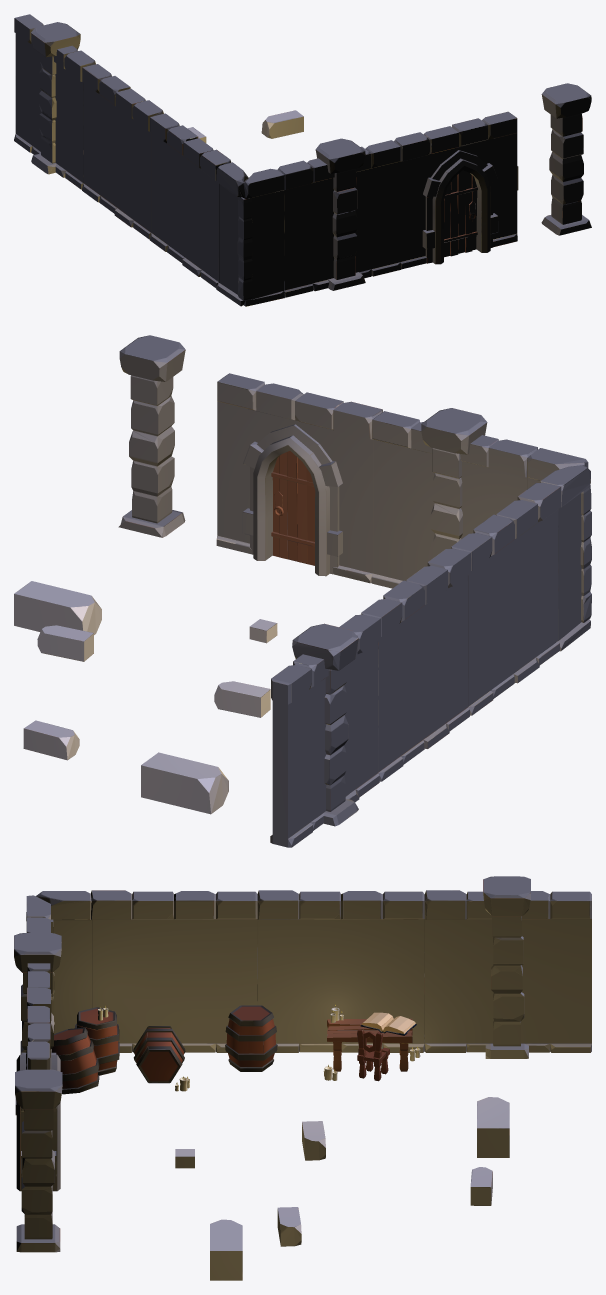
Rendered from BotLeft.obj.
3 views of the same model, one above another, from view 1: azimuth 30°, elevation 25°; view 2: azimuth 150°, elevation 25°; view 3: azimuth 270°, elevation 25° (orthographic). The views are drawn at different scales.
Visible parts, largest first — view 1: Wall5.002_Untitled.016; view 2: Wall5.002_Untitled.016; view 3: Wall5.002_Untitled.016.
Part boxes in pixels (bbox=[...]): Wall5.002_Untitled.016: bbox=[14, 14, 591, 306]; Wall5.002_Untitled.016: bbox=[14, 335, 591, 847]; Wall5.002_Untitled.016: bbox=[14, 876, 591, 1280].
Bounding box in the file's own units: 7.66 × 3.13 × 8.64.
